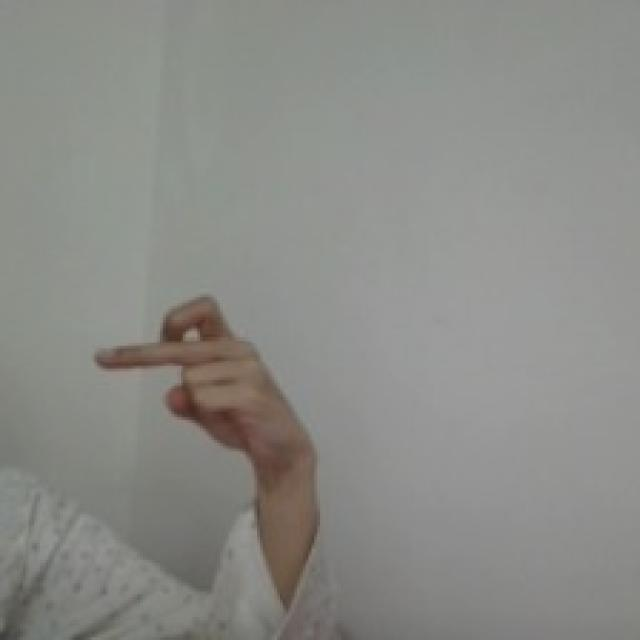sunday: (87, 287, 303, 469)
